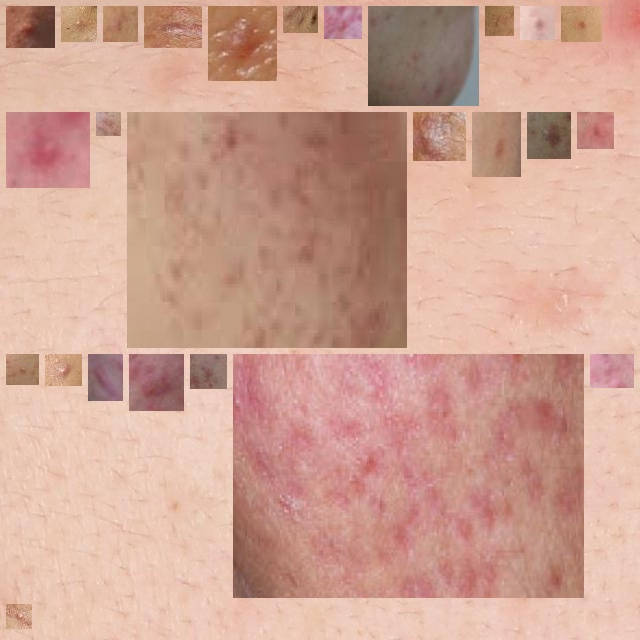papule: (241, 359, 576, 590), (135, 120, 399, 340), (376, 14, 471, 98), (14, 120, 82, 180), (216, 14, 269, 73), (480, 120, 513, 169), (137, 362, 176, 403), (421, 120, 458, 153), (152, 14, 194, 40), (535, 120, 563, 151), (14, 14, 47, 40), (96, 362, 115, 393), (598, 362, 626, 380), (569, 14, 594, 34), (585, 120, 606, 141), (69, 14, 89, 34), (198, 362, 219, 381), (111, 14, 130, 34), (332, 14, 354, 31), (528, 14, 547, 32), (53, 362, 74, 378), (14, 362, 31, 377), (291, 14, 310, 25), (493, 14, 506, 28), (14, 612, 24, 621), (104, 120, 113, 128)
